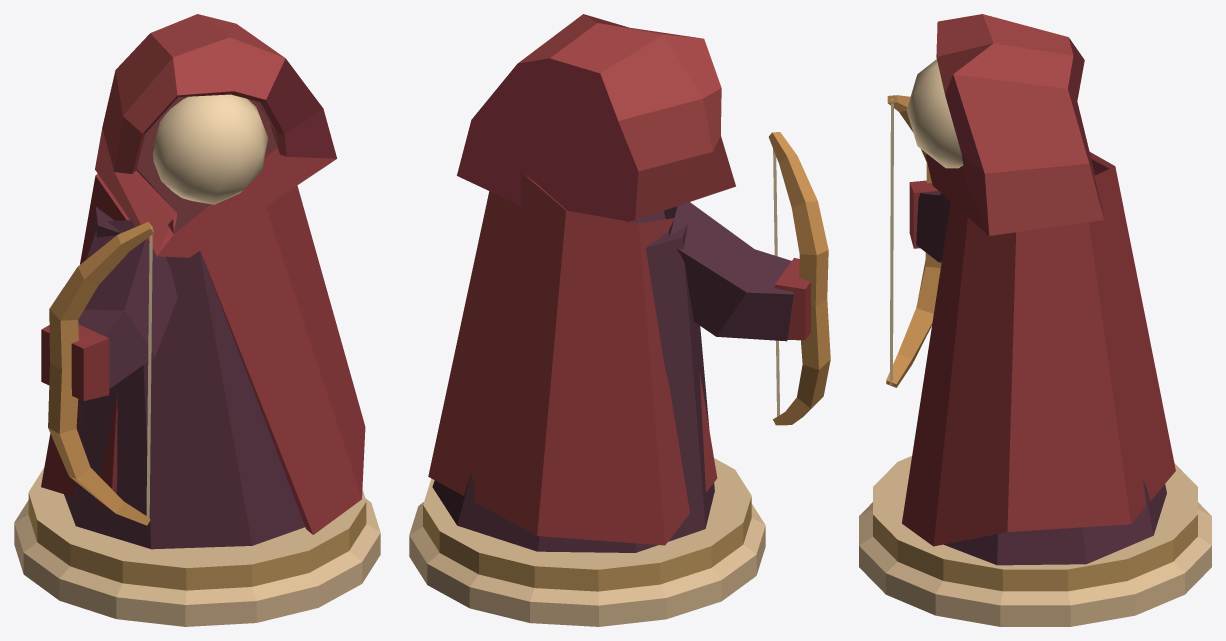
Rendered from archer.glb.
The picture shows the model from 3 angles, left to right: view 1: azimuth 30°, elevation 25°; view 2: azimuth 150°, elevation 25°; view 3: azimuth 270°, elevation 25°; orthographic projection. The views are drawn at different scales.
Parts seen in each view (by area): view 1: Tunic | long folds, Cloak | long diagonal overlap, Base | maple and gold, Hood | sloping crown and crossed mantle, Head | blank ivory, Bow | yew, Sleeve | bent bow arm, Hand | square grip, Bow | flax string; view 2: Cloak | long diagonal overlap, Hood | sloping crown and crossed mantle, Base | maple and gold, Tunic | long folds, Sleeve | bent bow arm, Bow | yew, Hand | square grip, Bow | flax string; view 3: Cloak | long diagonal overlap, Hood | sloping crown and crossed mantle, Base | maple and gold, Tunic | long folds, Head | blank ivory, Bow | yew, Sleeve | bent bow arm, Bow | flax string, Hand | square grip.
Boxes of the visible parts, <box> form: Tunic | long folds: <box>64,201,305,549</box>; Cloak | long diagonal overlap: <box>41,173,365,534</box>; Base | maple and gold: <box>14,468,380,626</box>; Hood | sloping crown and crossed mantle: <box>95,14,336,257</box>; Head | blank ivory: <box>153,94,267,204</box>; Bow | yew: <box>48,221,153,525</box>; Sleeve | bent bow arm: <box>78,220,177,388</box>; Hand | square grip: <box>41,324,109,400</box>; Bow | flax string: <box>146,227,152,518</box>; Cloak | long diagonal overlap: <box>428,172,717,545</box>; Hood | sloping crown and crossed mantle: <box>457,14,735,221</box>; Base | maple and gold: <box>409,458,765,626</box>; Tunic | long folds: <box>432,210,714,552</box>; Sleeve | bent bow arm: <box>664,202,793,341</box>; Bow | yew: <box>768,132,830,425</box>; Hand | square grip: <box>774,257,810,340</box>; Bow | flax string: <box>773,149,779,416</box>; Cloak | long diagonal overlap: <box>902,152,1175,546</box>; Hood | sloping crown and crossed mantle: <box>925,14,1104,235</box>; Base | maple and gold: <box>859,456,1211,626</box>; Tunic | long folds: <box>944,479,1166,565</box>; Head | blank ivory: <box>906,59,963,168</box>; Bow | yew: <box>886,95,941,387</box>; Sleeve | bent bow arm: <box>916,191,950,262</box>; Bow | flax string: <box>889,99,893,384</box>; Hand | square grip: <box>909,180,938,248</box>.
Bounding box in the file's own units: 1.75 × 2.51 × 1.56.
